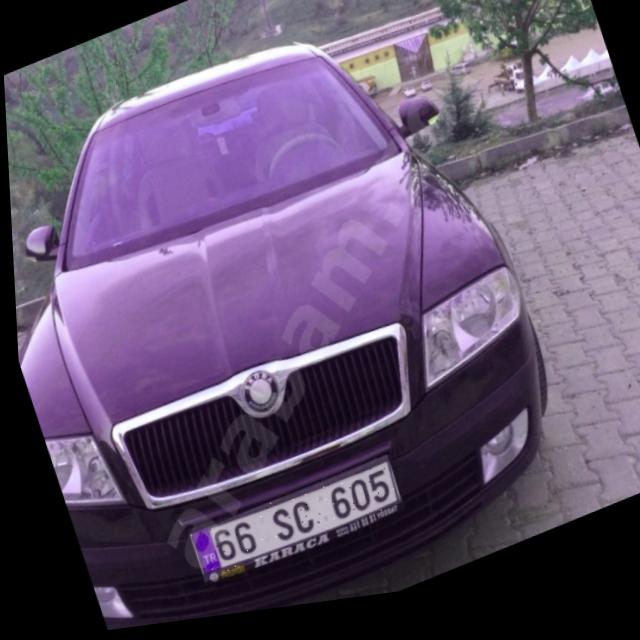license_plate: (181, 462, 398, 588)
